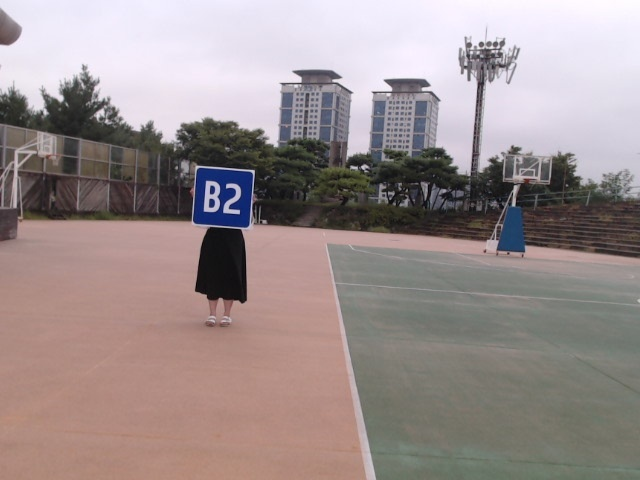delivery_b2: (192, 167, 254, 229)
